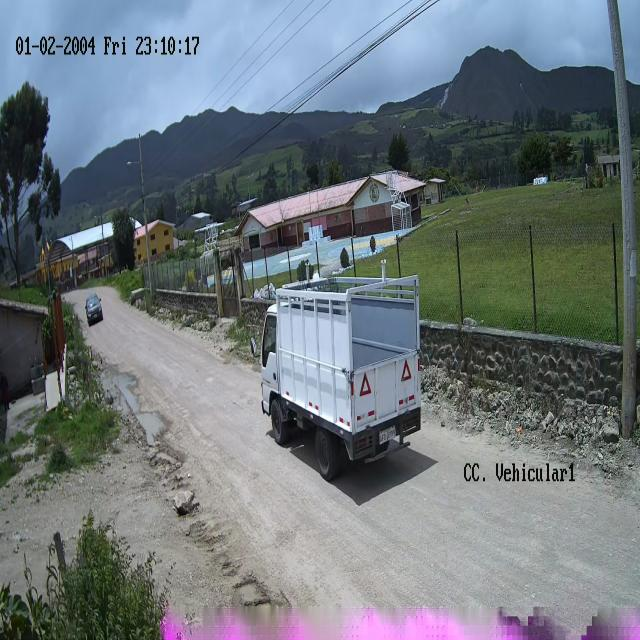TRUCK: (259, 275, 422, 481)
